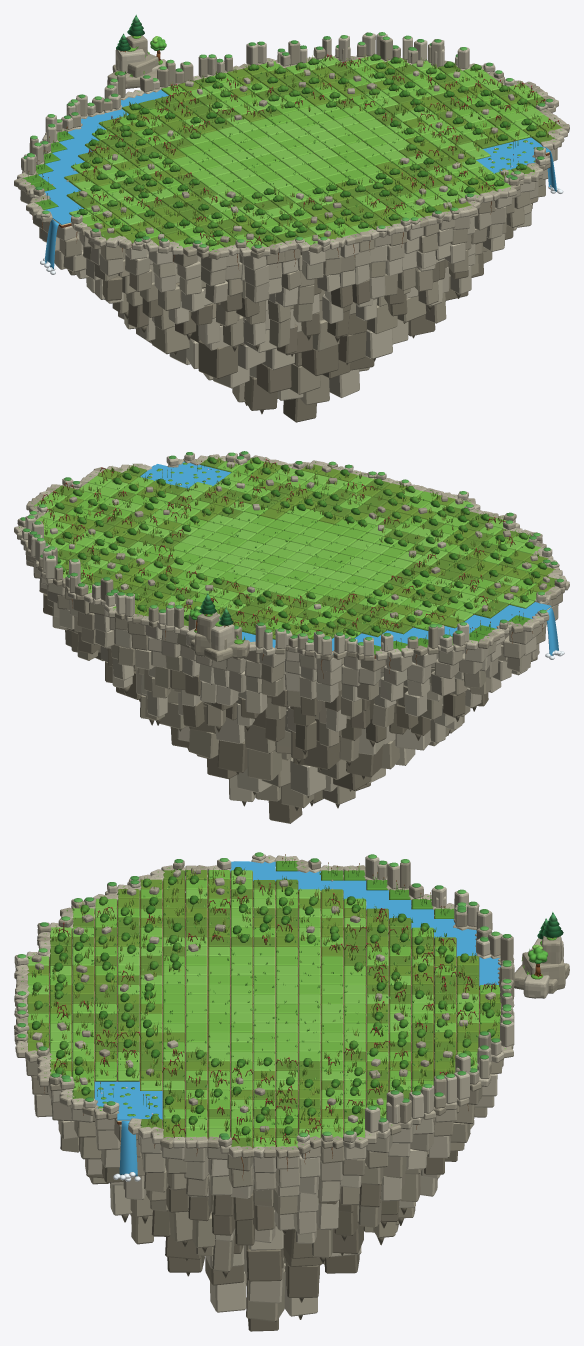
Rendered from ile-ronde-jeu.glb.
3 views of the same model, one above another, from view 1: azimuth 30°, elevation 25°; view 2: azimuth 150°, elevation 25°; view 3: azimuth 270°, elevation 25° (orthographic). The views are drawn at different scales.
Parts seen in each view (by area): view 1: pierre_fond.160, pierre_fond.372, pierre_fond.297, pierre_fond.290, pierre_fond.445, pierre_fond.095, pierre_fond.518, pierre_fond.366, pierre_fond.505, pierre_fond.424, pierre_fond.517, pierre_fond.231 (+1 smaller); view 2: pierre_fond.267, pierre_fond.328, pierre_fond.400, pierre_fond.189, pierre_fond.474, pierre_fond.136, pierre_fond.327, pierre_fond.424, pierre_fond.399, pierre_fond.085, pierre_fond.184, colline.002 (+3 smaller); view 3: pierre_fond.678, pierre_fond.618, pierre_fond.505, pierre_fond.561, pierre_fond.625, eau.034, colline.001, pierre_fond.739, pierre_fond.743, pierre_fond.667, pierre_fond.489, pierre_fond.481 (+2 smaller).
Boxes of the visible parts, x1,y1,x2,y2 form: pierre_fond.160: (198,340,238,378); pierre_fond.372: (301,344,338,375); pierre_fond.297: (256,363,291,393); pierre_fond.290: (244,376,277,410); pierre_fond.445: (338,331,366,363); pierre_fond.095: (152,326,189,354); pierre_fond.518: (365,328,392,359); pierre_fond.366: (289,364,320,394); pierre_fond.505: (329,369,359,397); pierre_fond.424: (283,398,316,422); pierre_fond.517: (367,304,397,333); pierre_fond.231: (269,318,290,347); pierre_fond.267: (290,758,325,796); pierre_fond.328: (247,748,281,781); pierre_fond.400: (217,740,247,772); pierre_fond.189: (304,736,340,769); pierre_fond.474: (189,729,218,758); pierre_fond.136: (346,745,382,777); pierre_fond.327: (244,725,275,753); pierre_fond.424: (268,799,302,823); pierre_fond.399: (215,717,244,743); pierre_fond.085: (395,729,431,750); pierre_fond.184: (295,720,316,751); colline.002: (211,619,234,650); pierre_fond.678: (246,1245,282,1281); pierre_fond.618: (286,1261,319,1297); pierre_fond.505: (210,1271,246,1312); pierre_fond.561: (246,1268,285,1321); pierre_fond.625: (248,1258,283,1303); eau.034: (119,1121,137,1176); colline.001: (522,952,565,989); pierre_fond.739: (212,1235,234,1272); pierre_fond.743: (169,1212,192,1242); pierre_fond.667: (332,1223,363,1253); pierre_fond.489: (283,1263,317,1316); pierre_fond.481: (324,1254,359,1273).
Size of the model in its own units: 62.69 by 37.95 by 49.14.
